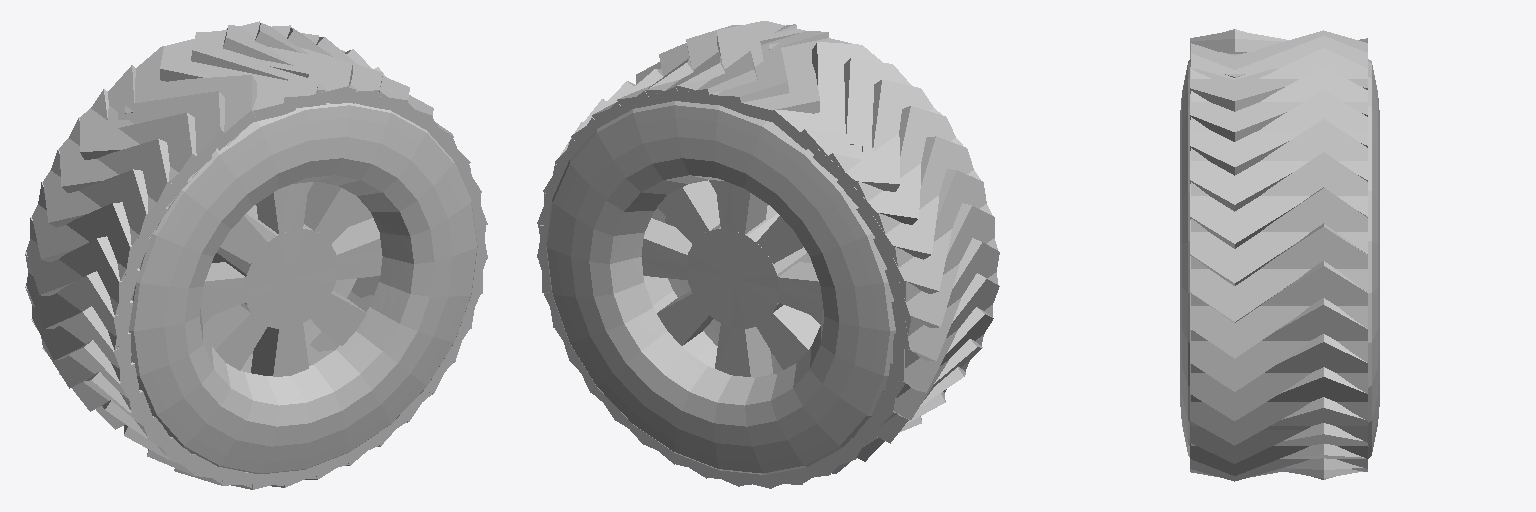
File: Tire 1 uv map.obj
3 renders of one model, left to right at view 1: azimuth 30°, elevation 25°; view 2: azimuth 150°, elevation 25°; view 3: azimuth 270°, elevation 25°, orthographic.
Parts seen in each view (by area): view 1: nurbsCircle14; view 2: nurbsCircle14; view 3: nurbsCircle14.
Part boxes in pixels (bbox=[...]): nurbsCircle14: bbox=[25, 21, 487, 489]; nurbsCircle14: bbox=[537, 21, 999, 488]; nurbsCircle14: bbox=[1180, 29, 1379, 481].
Size of the model in its own units: 3.56 by 3.54 by 1.57.